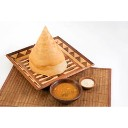dosa: (30, 24, 69, 74)
